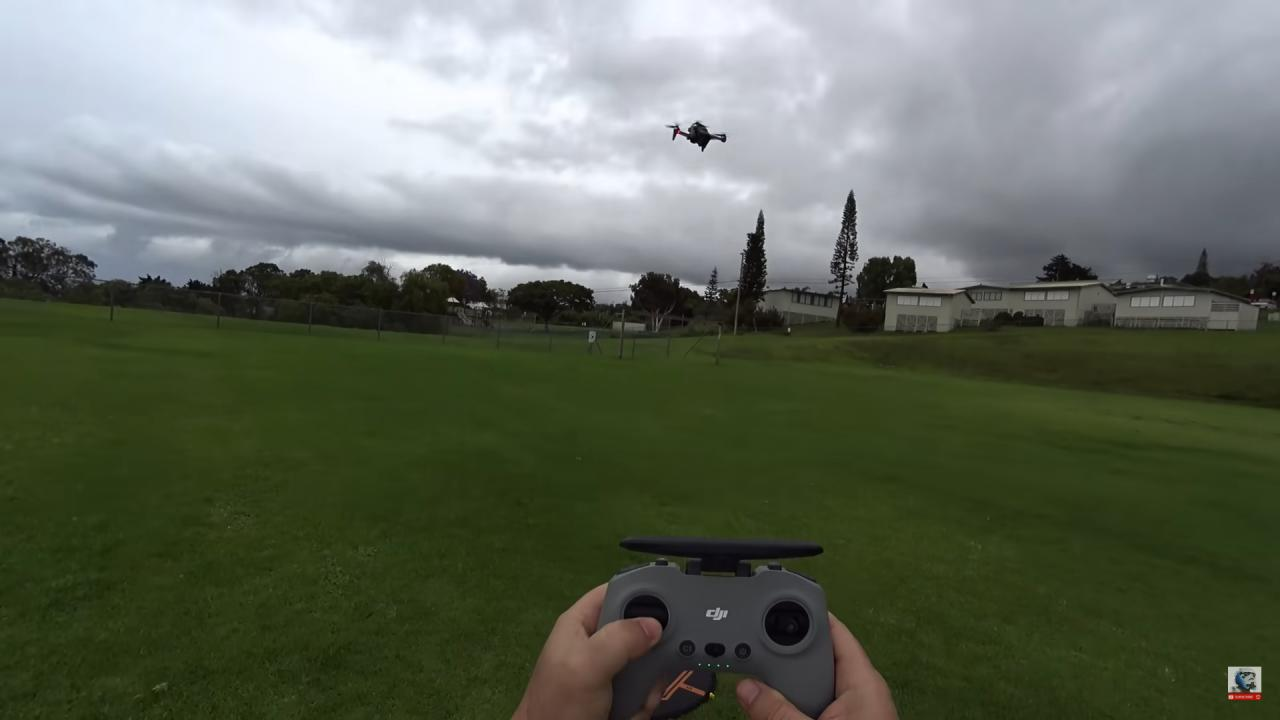Drone: (651, 105, 744, 166)
